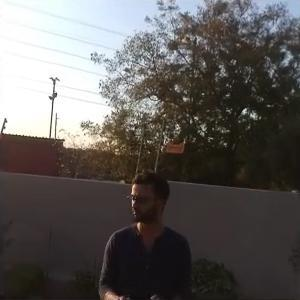follow: (87, 160, 197, 299)
